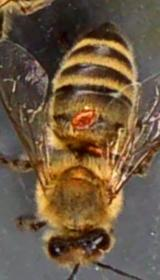varroa_mite: (62, 102, 102, 132)
